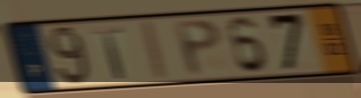6: (227, 14, 269, 76)
7: (268, 12, 307, 74)
9: (45, 24, 92, 87)
I: (141, 18, 172, 84)
P: (171, 17, 224, 79)
T: (89, 24, 127, 81)
